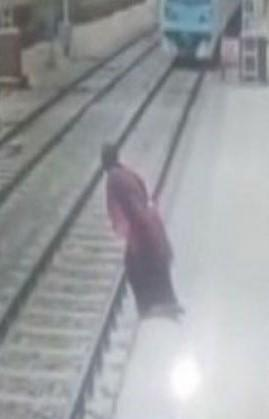person: (91, 111, 188, 327)
